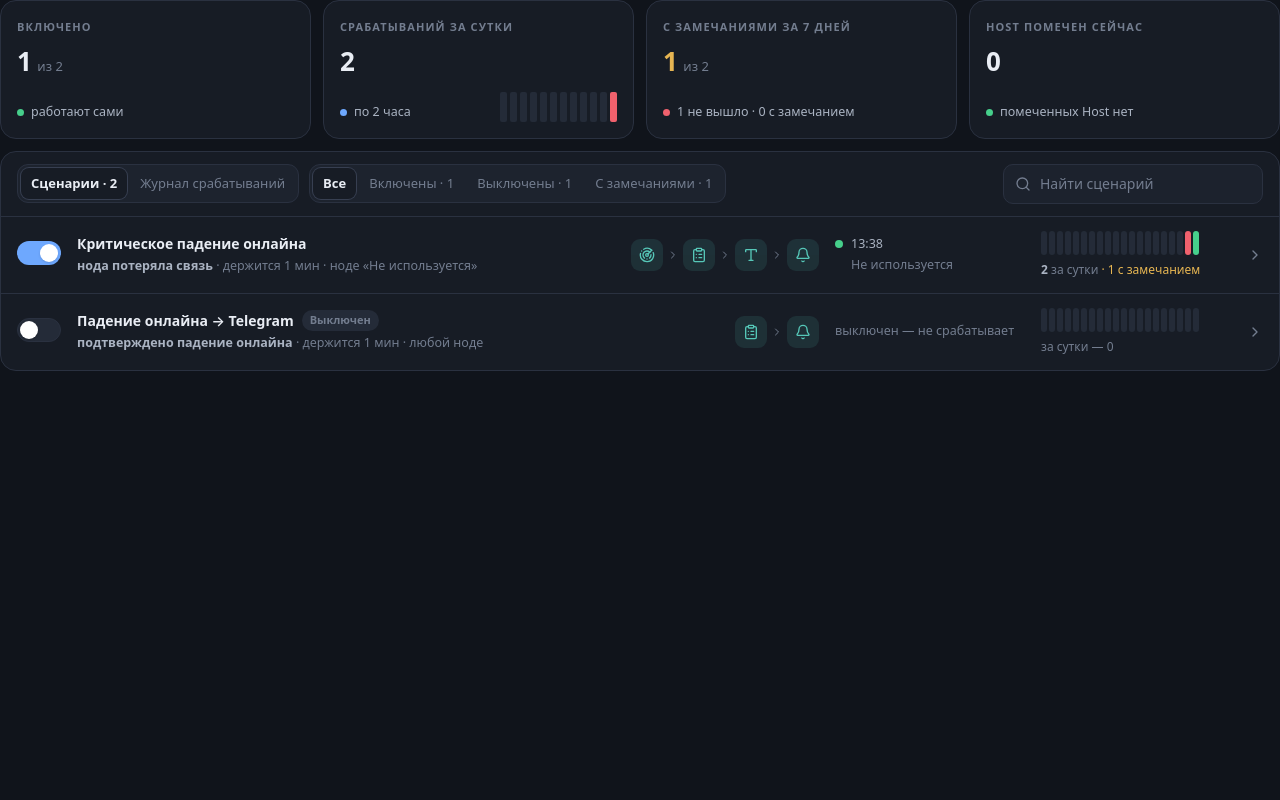
Test: Сценарии: плитки, строки, журнал и окно (витрина scenarios-2026-10b, страница A и окно A) › окно сценария: вкладка «Срабатывания» — полоска и числа, отбор «Не вышло» оставляет только ошибку
Click the button with aria-label "Открыть сценарий «Критическое падение онлайна»" at (640, 254), box x1=1 y1=216 x2=1279 y2=292
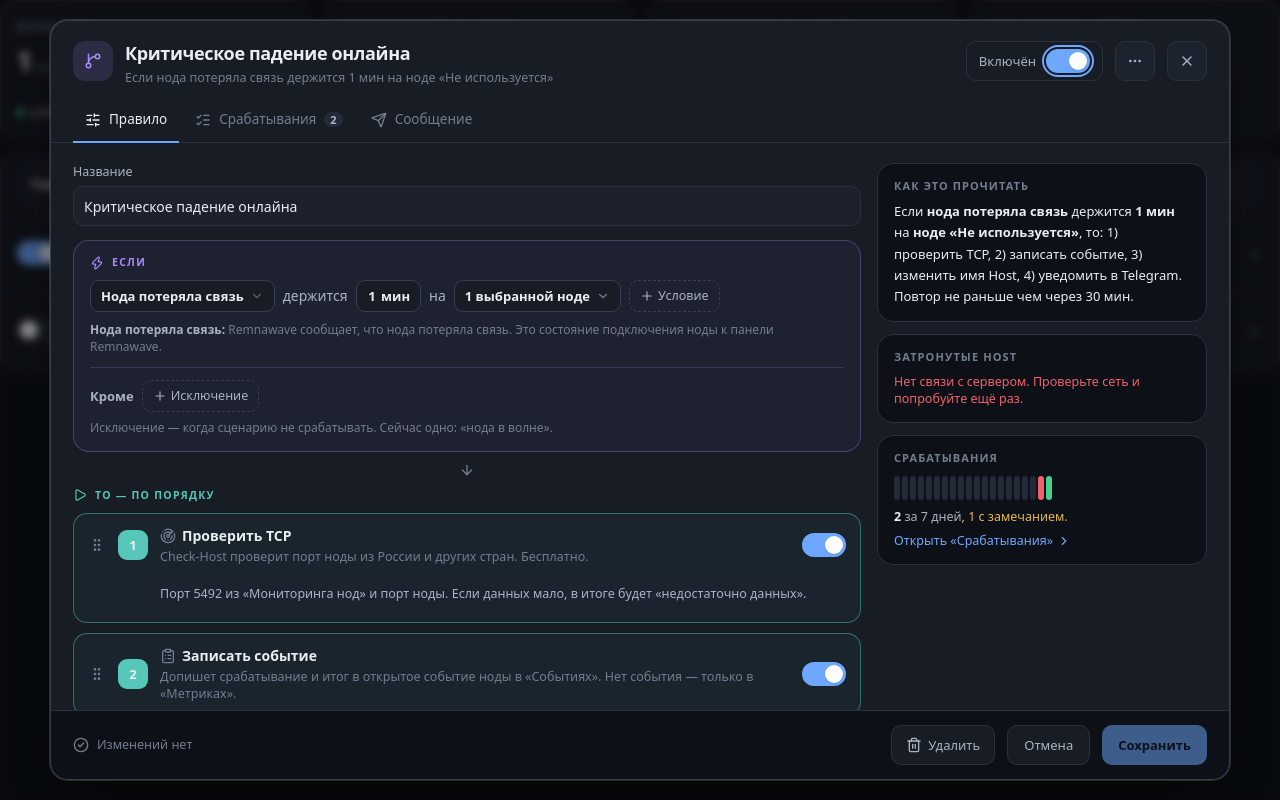
Click the tab "Срабатывания 2" at (269, 120), box x1=183 y1=98 x2=355 y2=142
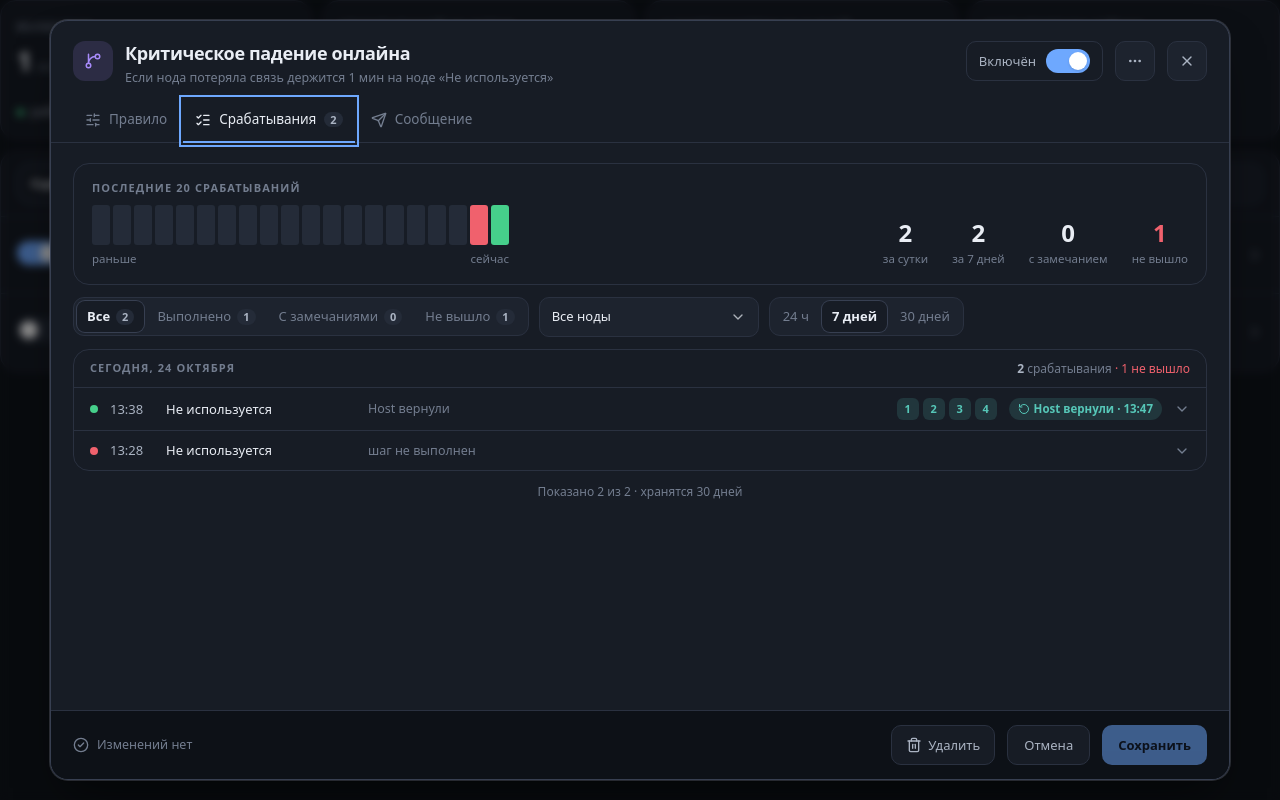
Check: the picture named "Последние срабатывания: не вышло, выполнено" is shown, box x1=92 y1=205 x2=509 y2=245
Check: the heading "Последние 20 срабатываний" is shown, box x1=92 y1=180 x2=301 y2=194
Click the radio button labelled "Не вышло 1" at (470, 317), box x1=415 y1=301 x2=525 y2=332
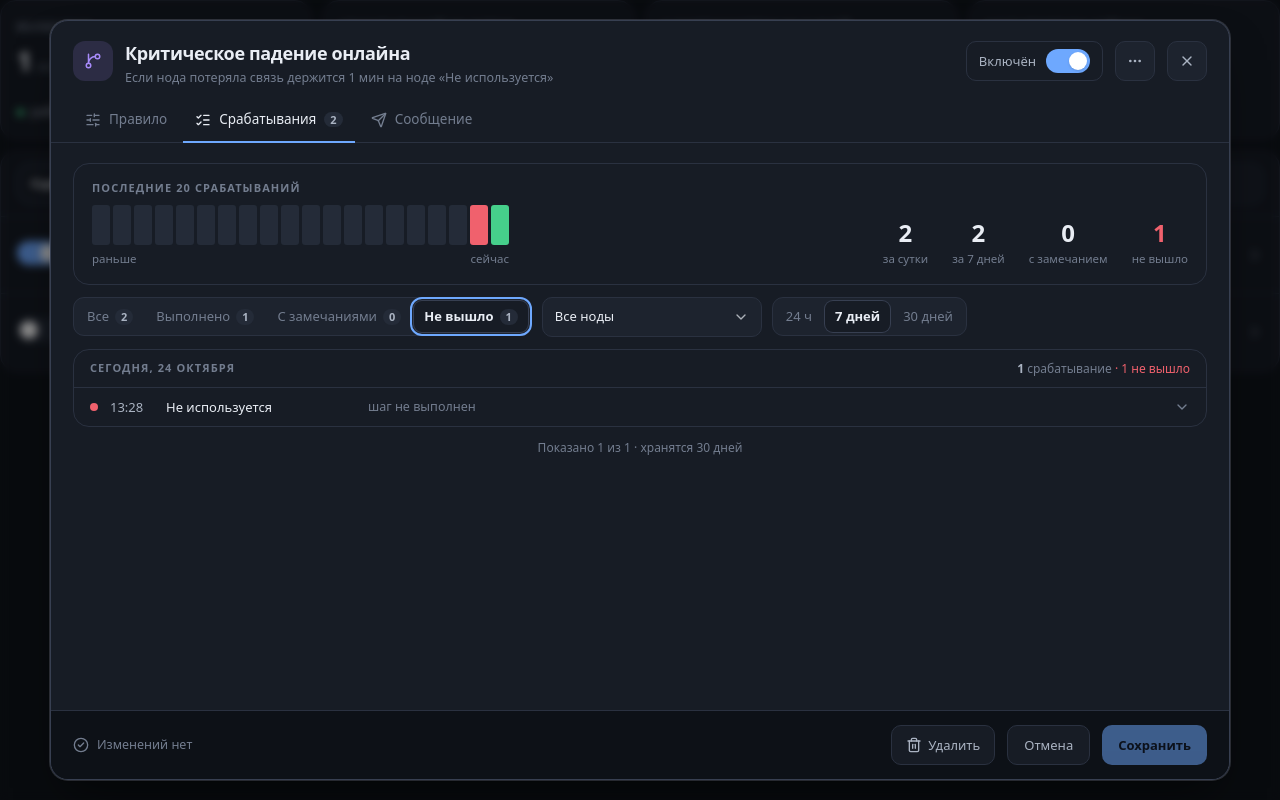
Check: the text "Показано 1 из 1 · хранятся 30 дней" is shown, box x1=538 y1=439 x2=742 y2=456
